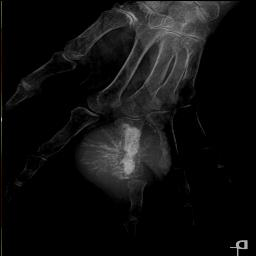cancer: (78, 117, 165, 185)
